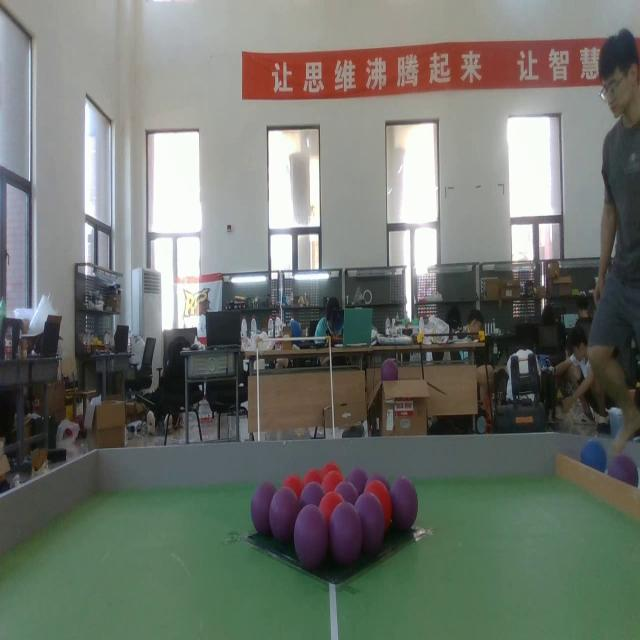blue: (581, 439, 607, 476)
invalid: (389, 477, 420, 541), (604, 450, 639, 504), (330, 505, 361, 564), (355, 492, 383, 557), (268, 485, 296, 547), (250, 478, 278, 538), (296, 508, 324, 564), (346, 467, 372, 495), (332, 478, 354, 508), (300, 478, 322, 504)
red: (364, 479, 392, 531), (316, 492, 344, 518), (322, 460, 343, 484), (283, 474, 303, 498), (303, 465, 323, 488), (320, 472, 343, 492)
